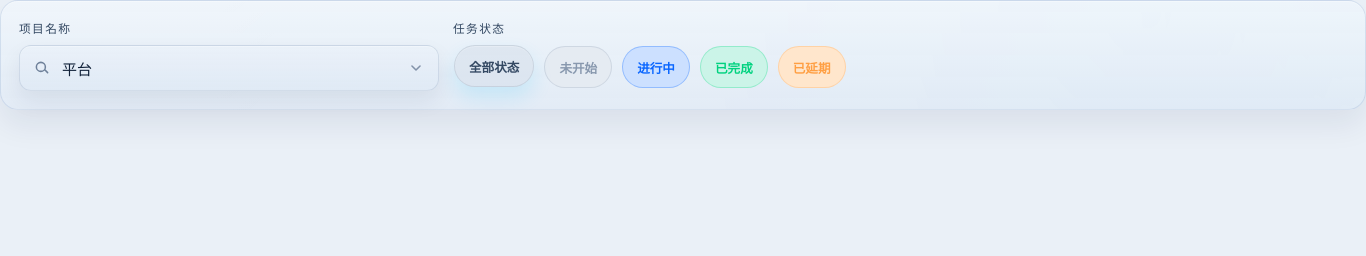
Test: MyTaskFilters › renders the dropdown as a compact matched project list without header copy or secondary metadata
Step 1. Focus the dropdown labelled "项目名称" → (229, 68), box 19,46 -> 439,92
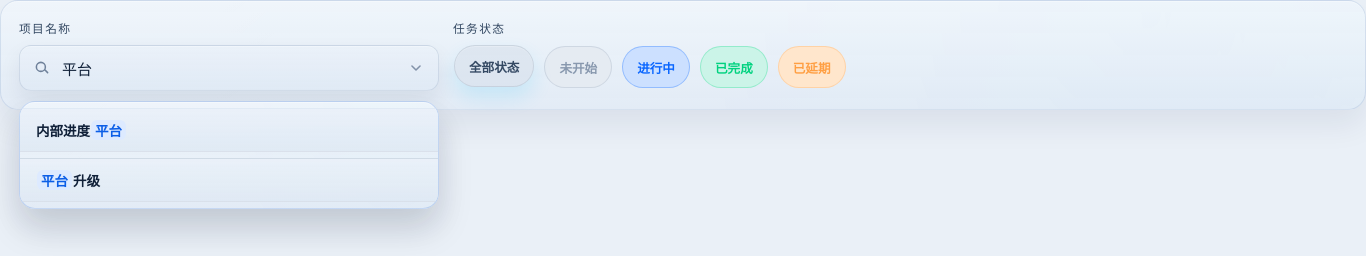
expect the list shows "内部进度平台": met, box 19,102 -> 439,210
expect the list shows "平台升级": met, box 19,102 -> 439,210
